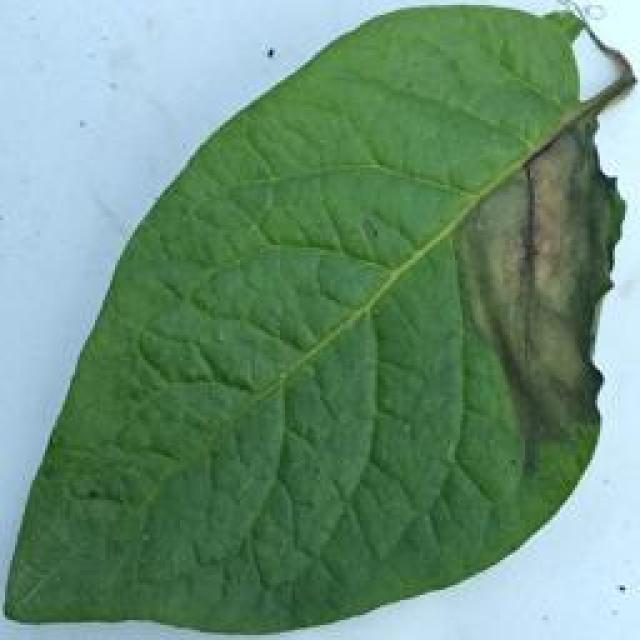Potato_Late_Blight: (9, 6, 618, 631)
